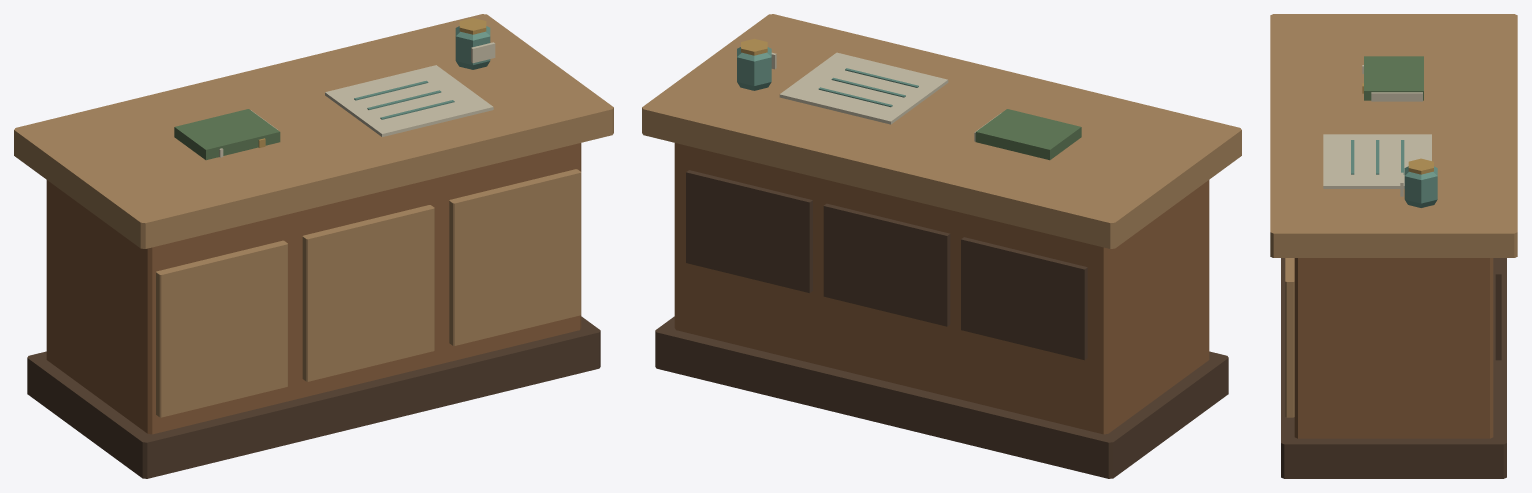
Rendered from counter_ranch.glb.
The picture shows the model from 3 angles, left to right: view 1: azimuth 30°, elevation 25°; view 2: azimuth 150°, elevation 25°; view 3: azimuth 270°, elevation 25°; orthographic projection. The views are drawn at different scales.
Parts seen in each view (by area): view 1: geometry; view 2: geometry; view 3: geometry.
Part boxes in pixels (box(x1,y1,x2,y2)): geometry: box(14, 14, 613, 478); geometry: box(642, 14, 1241, 478); geometry: box(1270, 14, 1517, 478).
Bounding box in the file's own units: 1.91 × 1.17 × 0.91.
